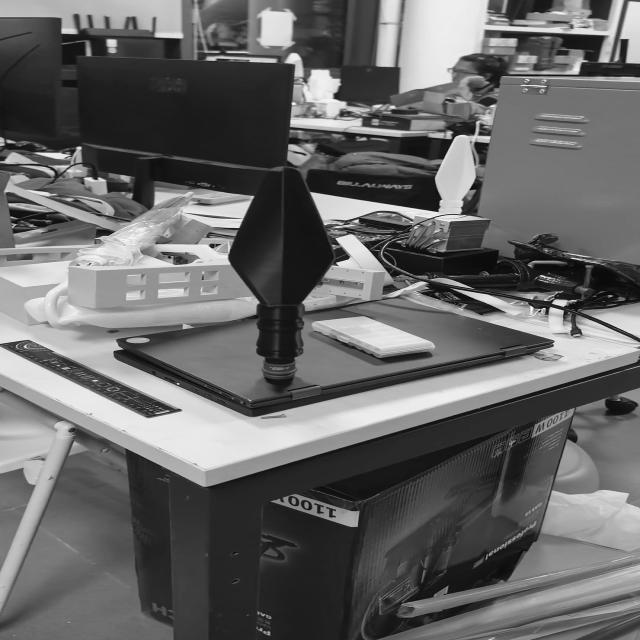base: (257, 359, 299, 383)
